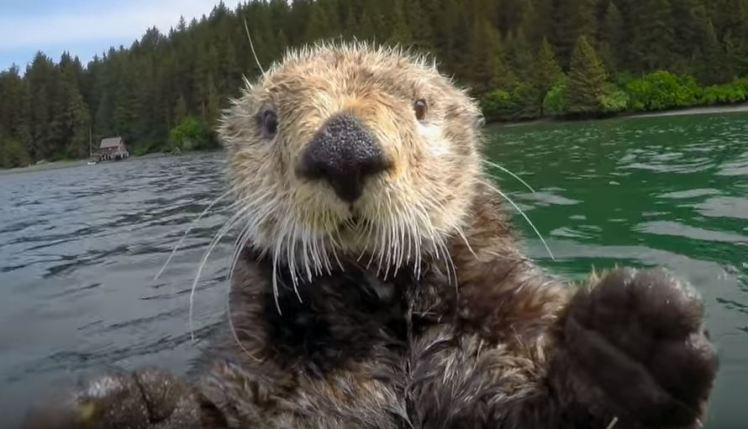otter: (154, 13, 652, 429)
